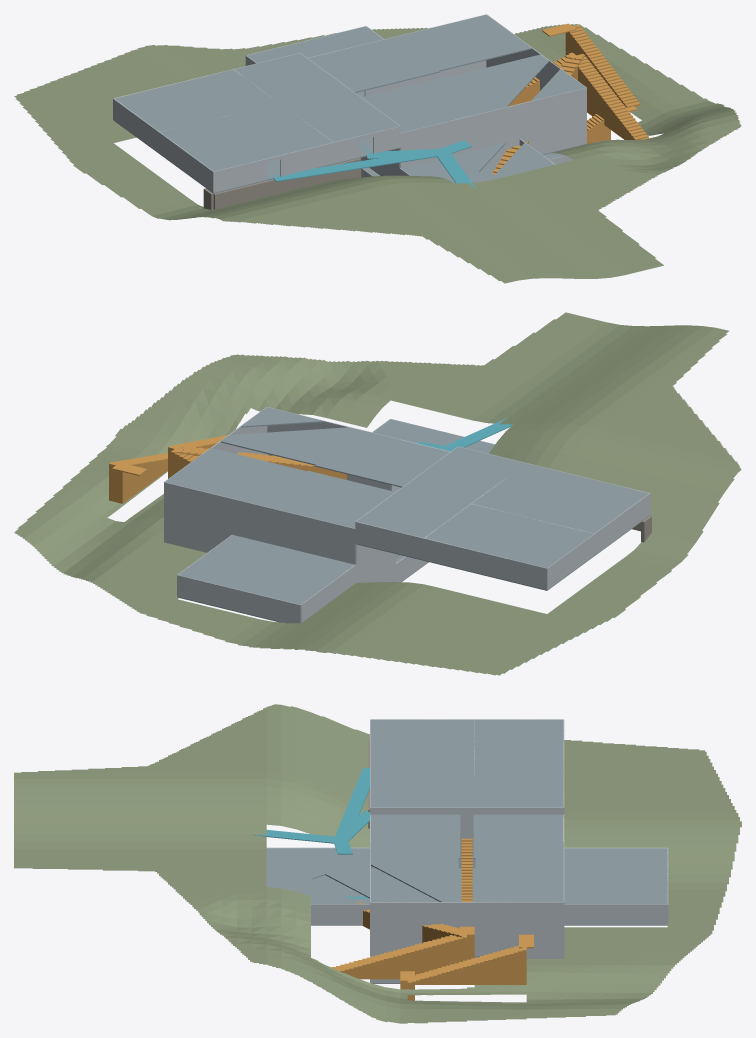
Rendered from closed-floors.glb.
3 renders of one model, top to bottom at view 1: azimuth 30°, elevation 25°; view 2: azimuth 150°, elevation 25°; view 3: azimuth 270°, elevation 25°, orthographic. The views are drawn at different scales.
Visible parts, largest first — view 1: Saved editor occupied-room terrain WLD-09, Ceiling cap west-stair, Ceiling cap control, Wall turbine S.001, Ceiling cap office, Restored ceiling-cap turbine 0 region0, Ceiling cap turbine.006, Ceiling cap turbine.003, Ceiling cap turbine, Ceiling cap plant, Ceiling cap turbine.004, Wall turbine S (+14 smaller); view 2: Saved editor occupied-room terrain WLD-09, Ceiling cap west-stair, Ceiling cap control, Ceiling cap plant, Wall turbine N.001, Ceiling cap office, Restored ceiling-cap turbine 0 region0, Ceiling cap turbine.006, Wall office N, Wall plant N, Ceiling cap turbine, Ceiling cap turbine.003 (+12 smaller); view 3: Saved editor occupied-room terrain WLD-09, Wall turbine E, Ceiling cap west-stair, Ceiling cap control, Ceiling cap plant, Ceiling cap office, Restored ceiling-cap turbine 0 region0, Ceiling cap turbine.006, Ceiling cap turbine, Ceiling cap turbine.003, Wall plant E, Ceiling cap turbine.004 (+11 smaller).
Boxes of the visible parts, bbox=[...] form: Saved editor occupied-room terrain WLD-09: bbox=[14, 24, 741, 283]; Ceiling cap west-stair: bbox=[234, 53, 399, 142]; Ceiling cap control: bbox=[160, 103, 332, 171]; Wall turbine S.001: bbox=[465, 88, 586, 168]; Ceiling cap office: bbox=[115, 69, 278, 131]; Restored ceiling-cap turbine 0 region0: bbox=[409, 54, 548, 119]; Ceiling cap turbine.006: bbox=[394, 14, 531, 71]; Ceiling cap turbine.003: bbox=[362, 86, 454, 132]; Ceiling cap turbine: bbox=[308, 46, 400, 91]; Ceiling cap plant: bbox=[246, 26, 382, 63]; Ceiling cap turbine.004: bbox=[355, 37, 438, 79]; Wall turbine S: bbox=[400, 120, 455, 168]; Saved editor occupied-room terrain WLD-09: bbox=[14, 312, 741, 675]; Ceiling cap west-stair: bbox=[356, 446, 526, 537]; Ceiling cap control: bbox=[472, 463, 648, 533]; Ceiling cap plant: bbox=[178, 535, 354, 604]; Wall turbine N.001: bbox=[164, 482, 288, 550]; Ceiling cap office: bbox=[425, 504, 593, 567]; Restored ceiling-cap turbine 0 region0: bbox=[221, 427, 400, 475]; Ceiling cap turbine.006: bbox=[165, 448, 306, 505]; Wall office N: bbox=[424, 538, 547, 589]; Wall plant N: bbox=[177, 575, 300, 623]; Ceiling cap turbine: bbox=[300, 481, 394, 528]; Ceiling cap turbine.003: bbox=[355, 440, 449, 485]; Saved editor occupied-room terrain WLD-09: bbox=[14, 704, 741, 1023]; Wall turbine E: bbox=[370, 902, 563, 956]; Ceiling cap west-stair: bbox=[370, 776, 563, 807]; Ceiling cap control: bbox=[370, 719, 474, 776]; Ceiling cap plant: bbox=[564, 848, 667, 904]; Ceiling cap office: bbox=[474, 719, 563, 776]; Restored ceiling-cap turbine 0 region0: bbox=[370, 840, 460, 901]; Ceiling cap turbine.006: bbox=[475, 858, 563, 902]; Ceiling cap turbine: bbox=[475, 814, 563, 840]; Ceiling cap turbine.003: bbox=[370, 814, 458, 840]; Wall plant E: bbox=[564, 904, 667, 924]; Ceiling cap turbine.004: bbox=[475, 840, 563, 858].
Bounding box in the file's own units: 85 × 13.16 × 98.
